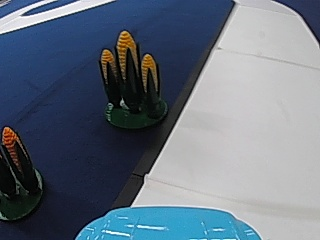corn: (95, 25, 171, 129), (0, 122, 45, 220)
